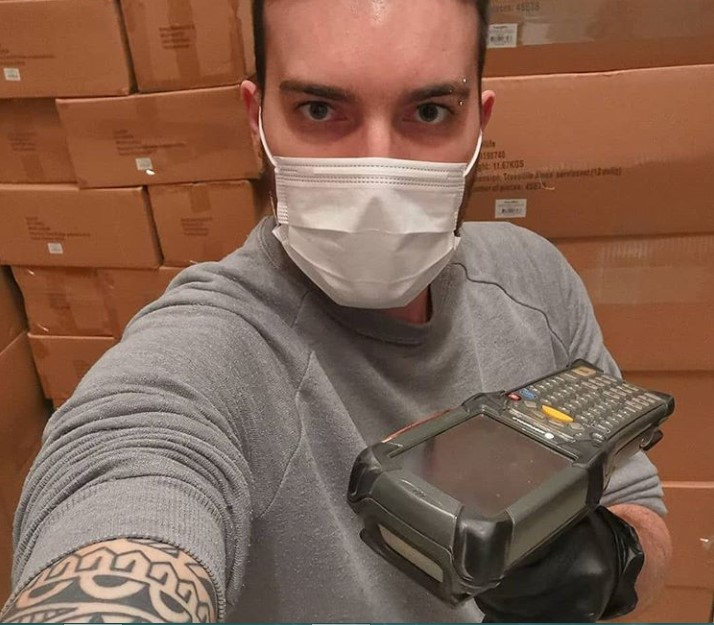face_with_mask: (238, 0, 496, 316)
